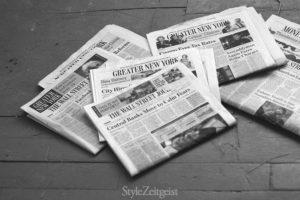paper: (21, 6, 300, 176)
